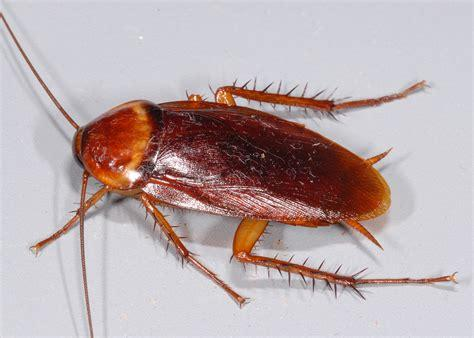cockroach: (64, 78, 401, 288)
